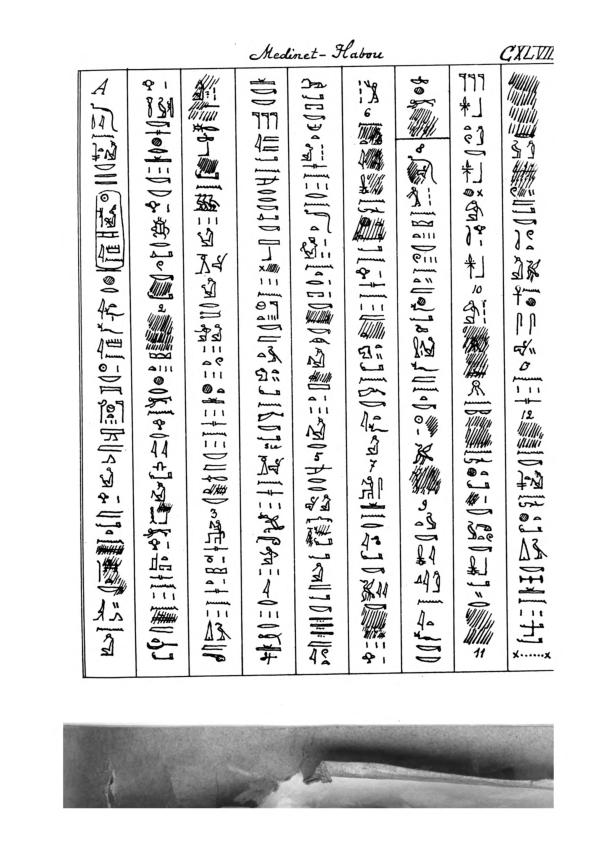circle: (90, 188, 128, 275)
